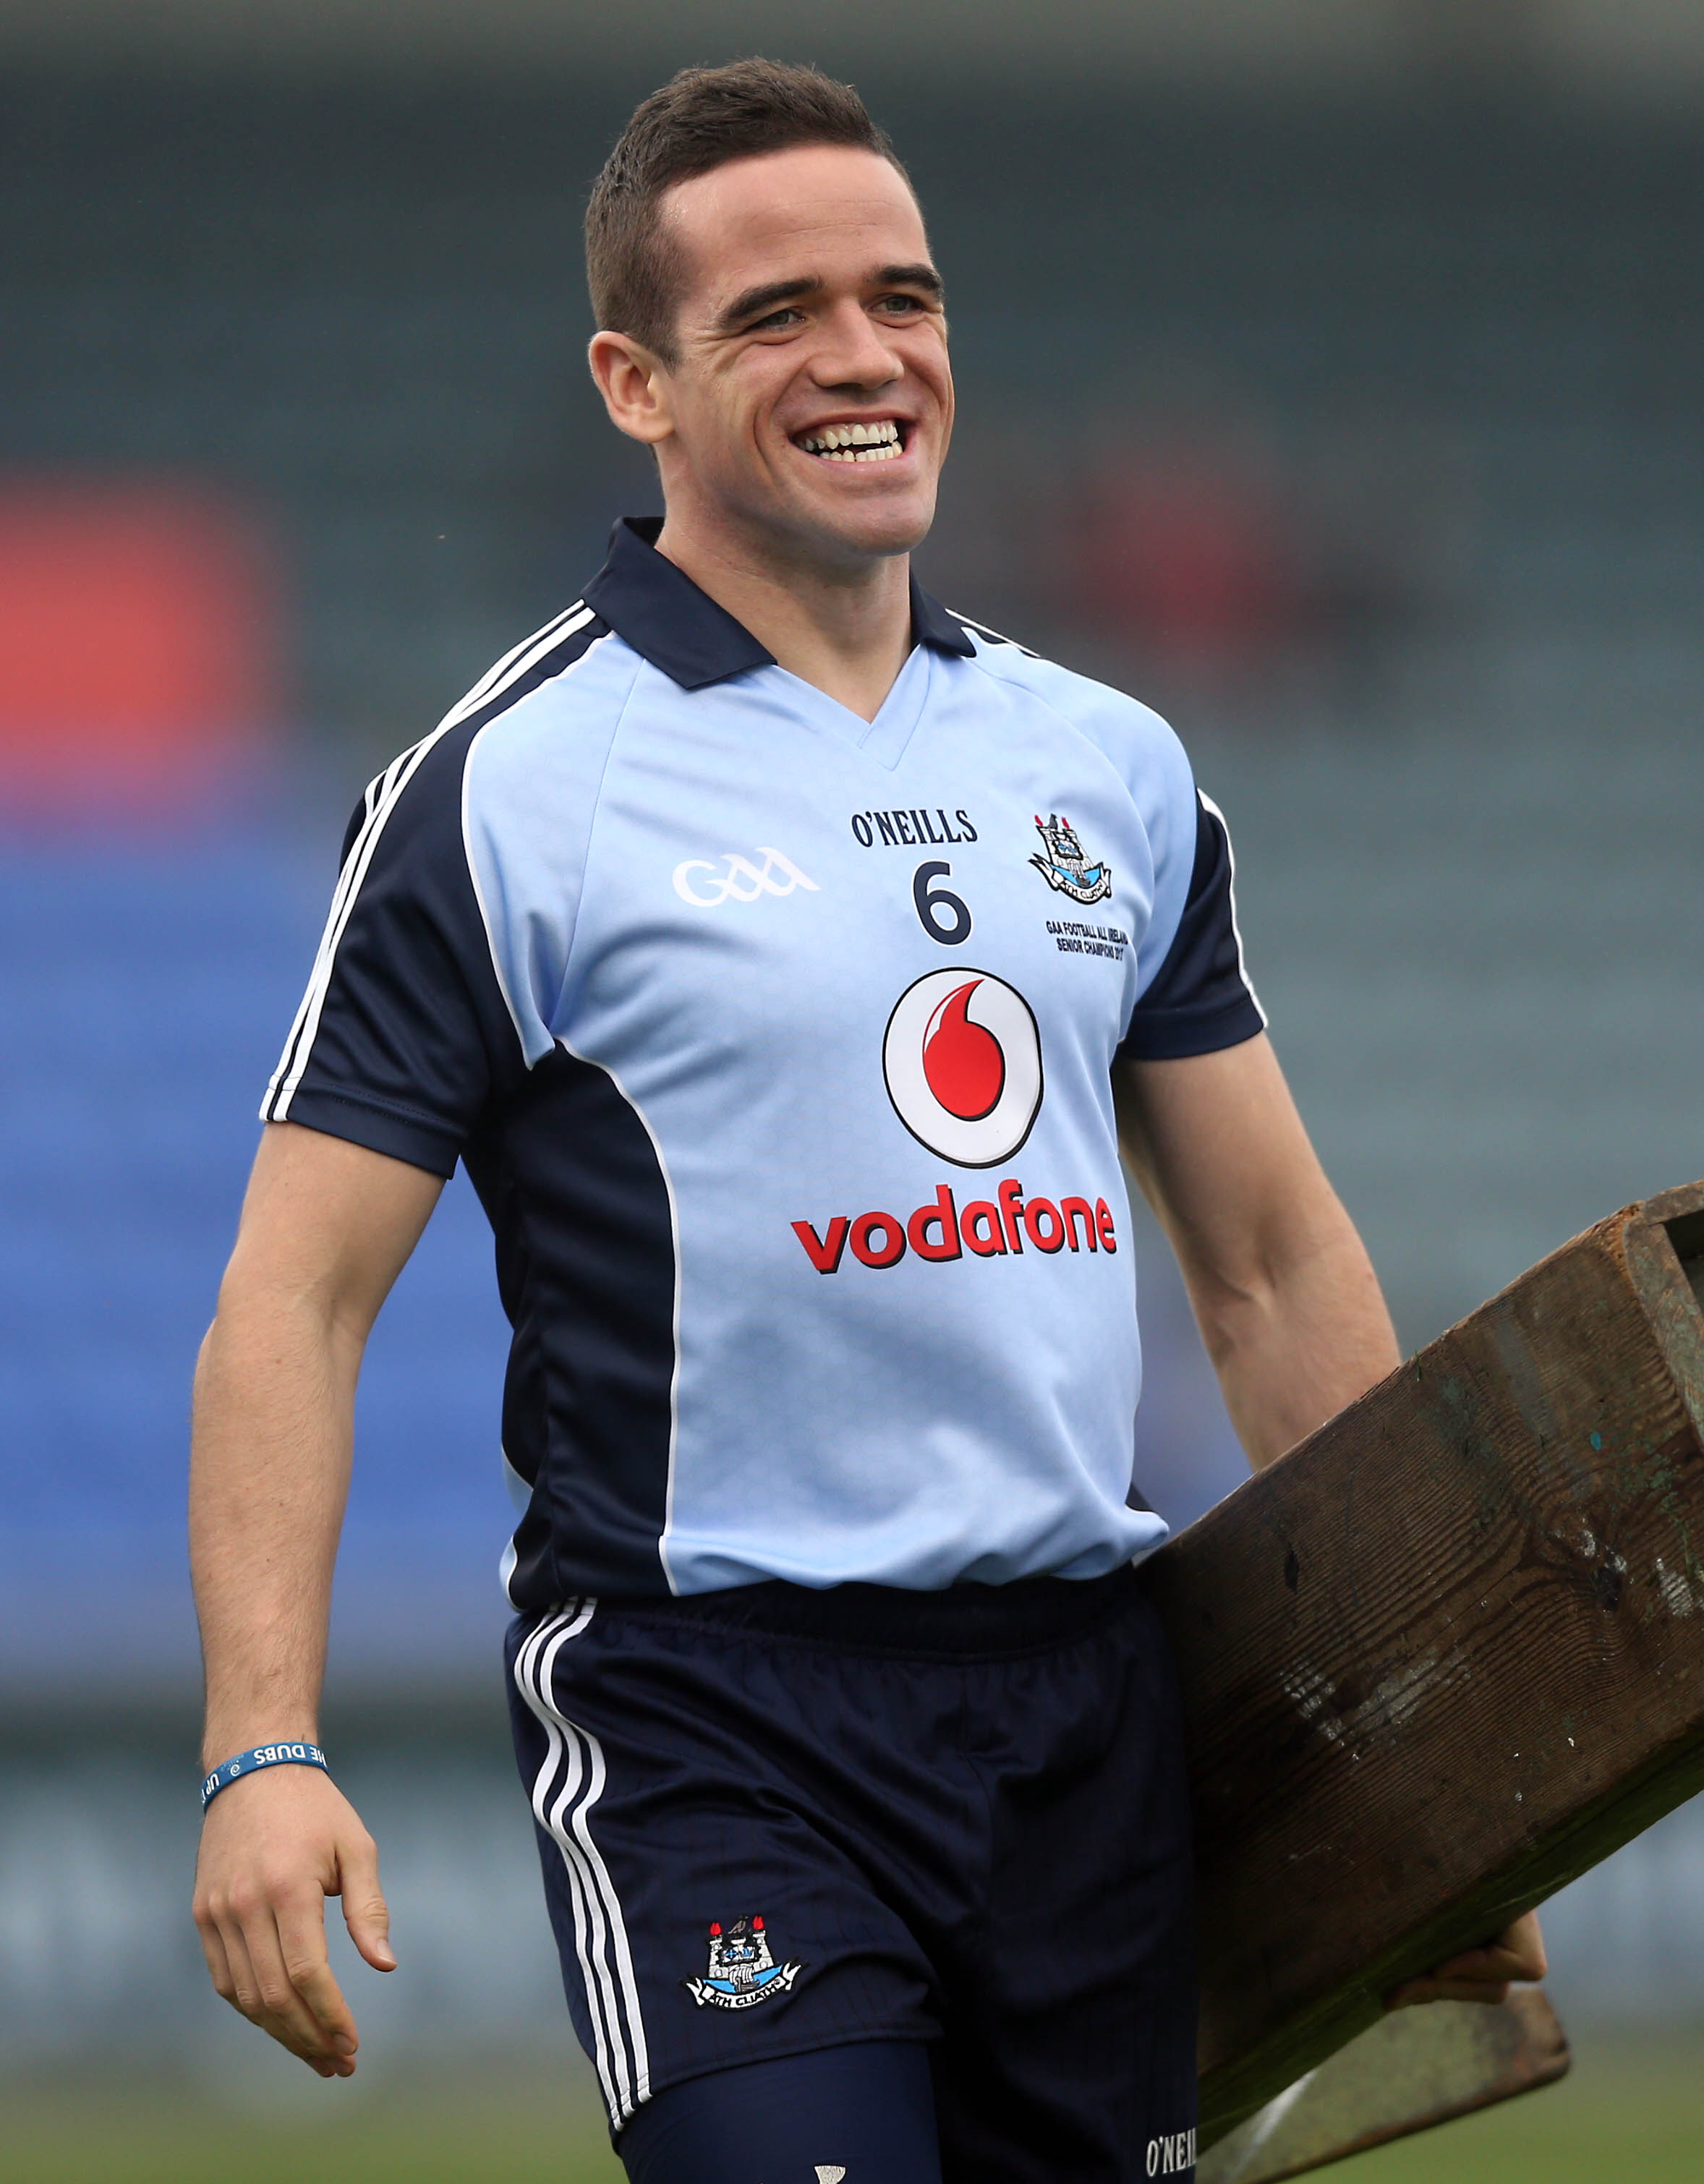player: (255, 56, 1478, 2157)
